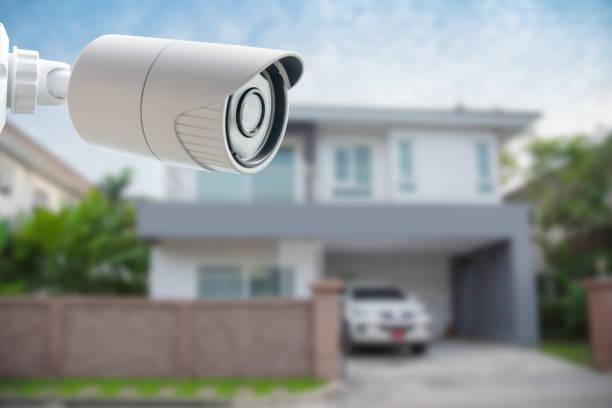camera: (42, 17, 322, 200)
